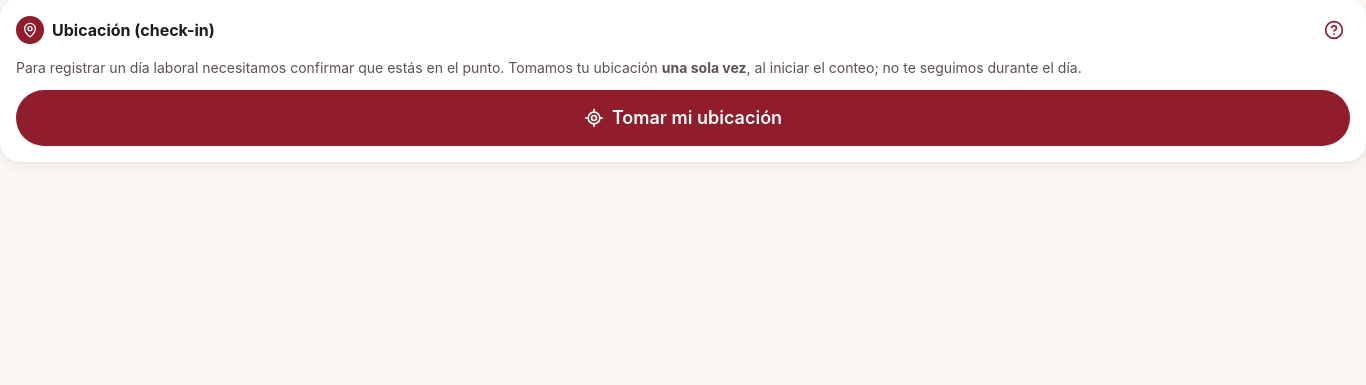
Scenario: Check-in GPS › GPS apagado: pide activarlo y no deja continuar
Step 1. Click the button "Tomar mi ubicación" → [683, 118], box left=16, top=90, right=1350, bottom=146
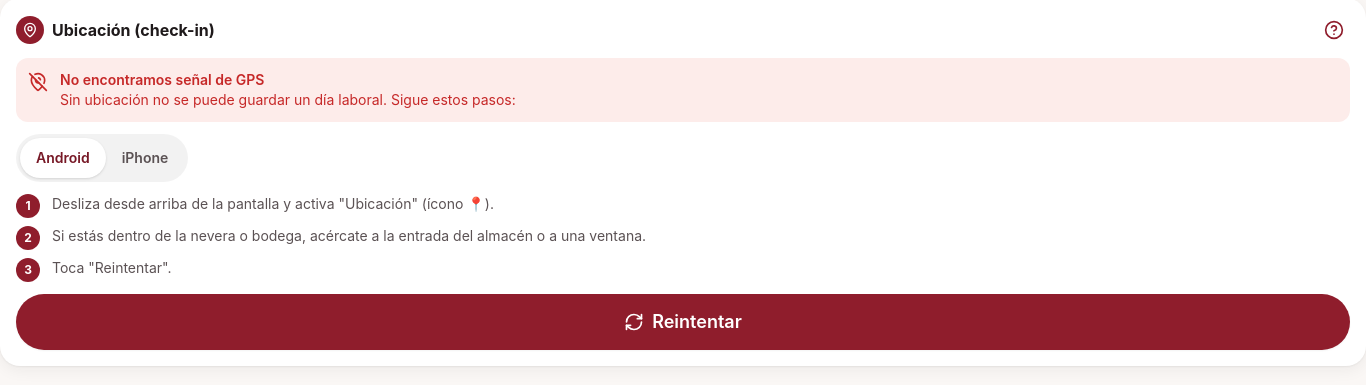
Check: the text "No encontramos señal de GPS" is shown, box left=60, top=71, right=264, bottom=88
Check: the button "Reintentar" is shown, box left=16, top=294, right=1350, bottom=350
